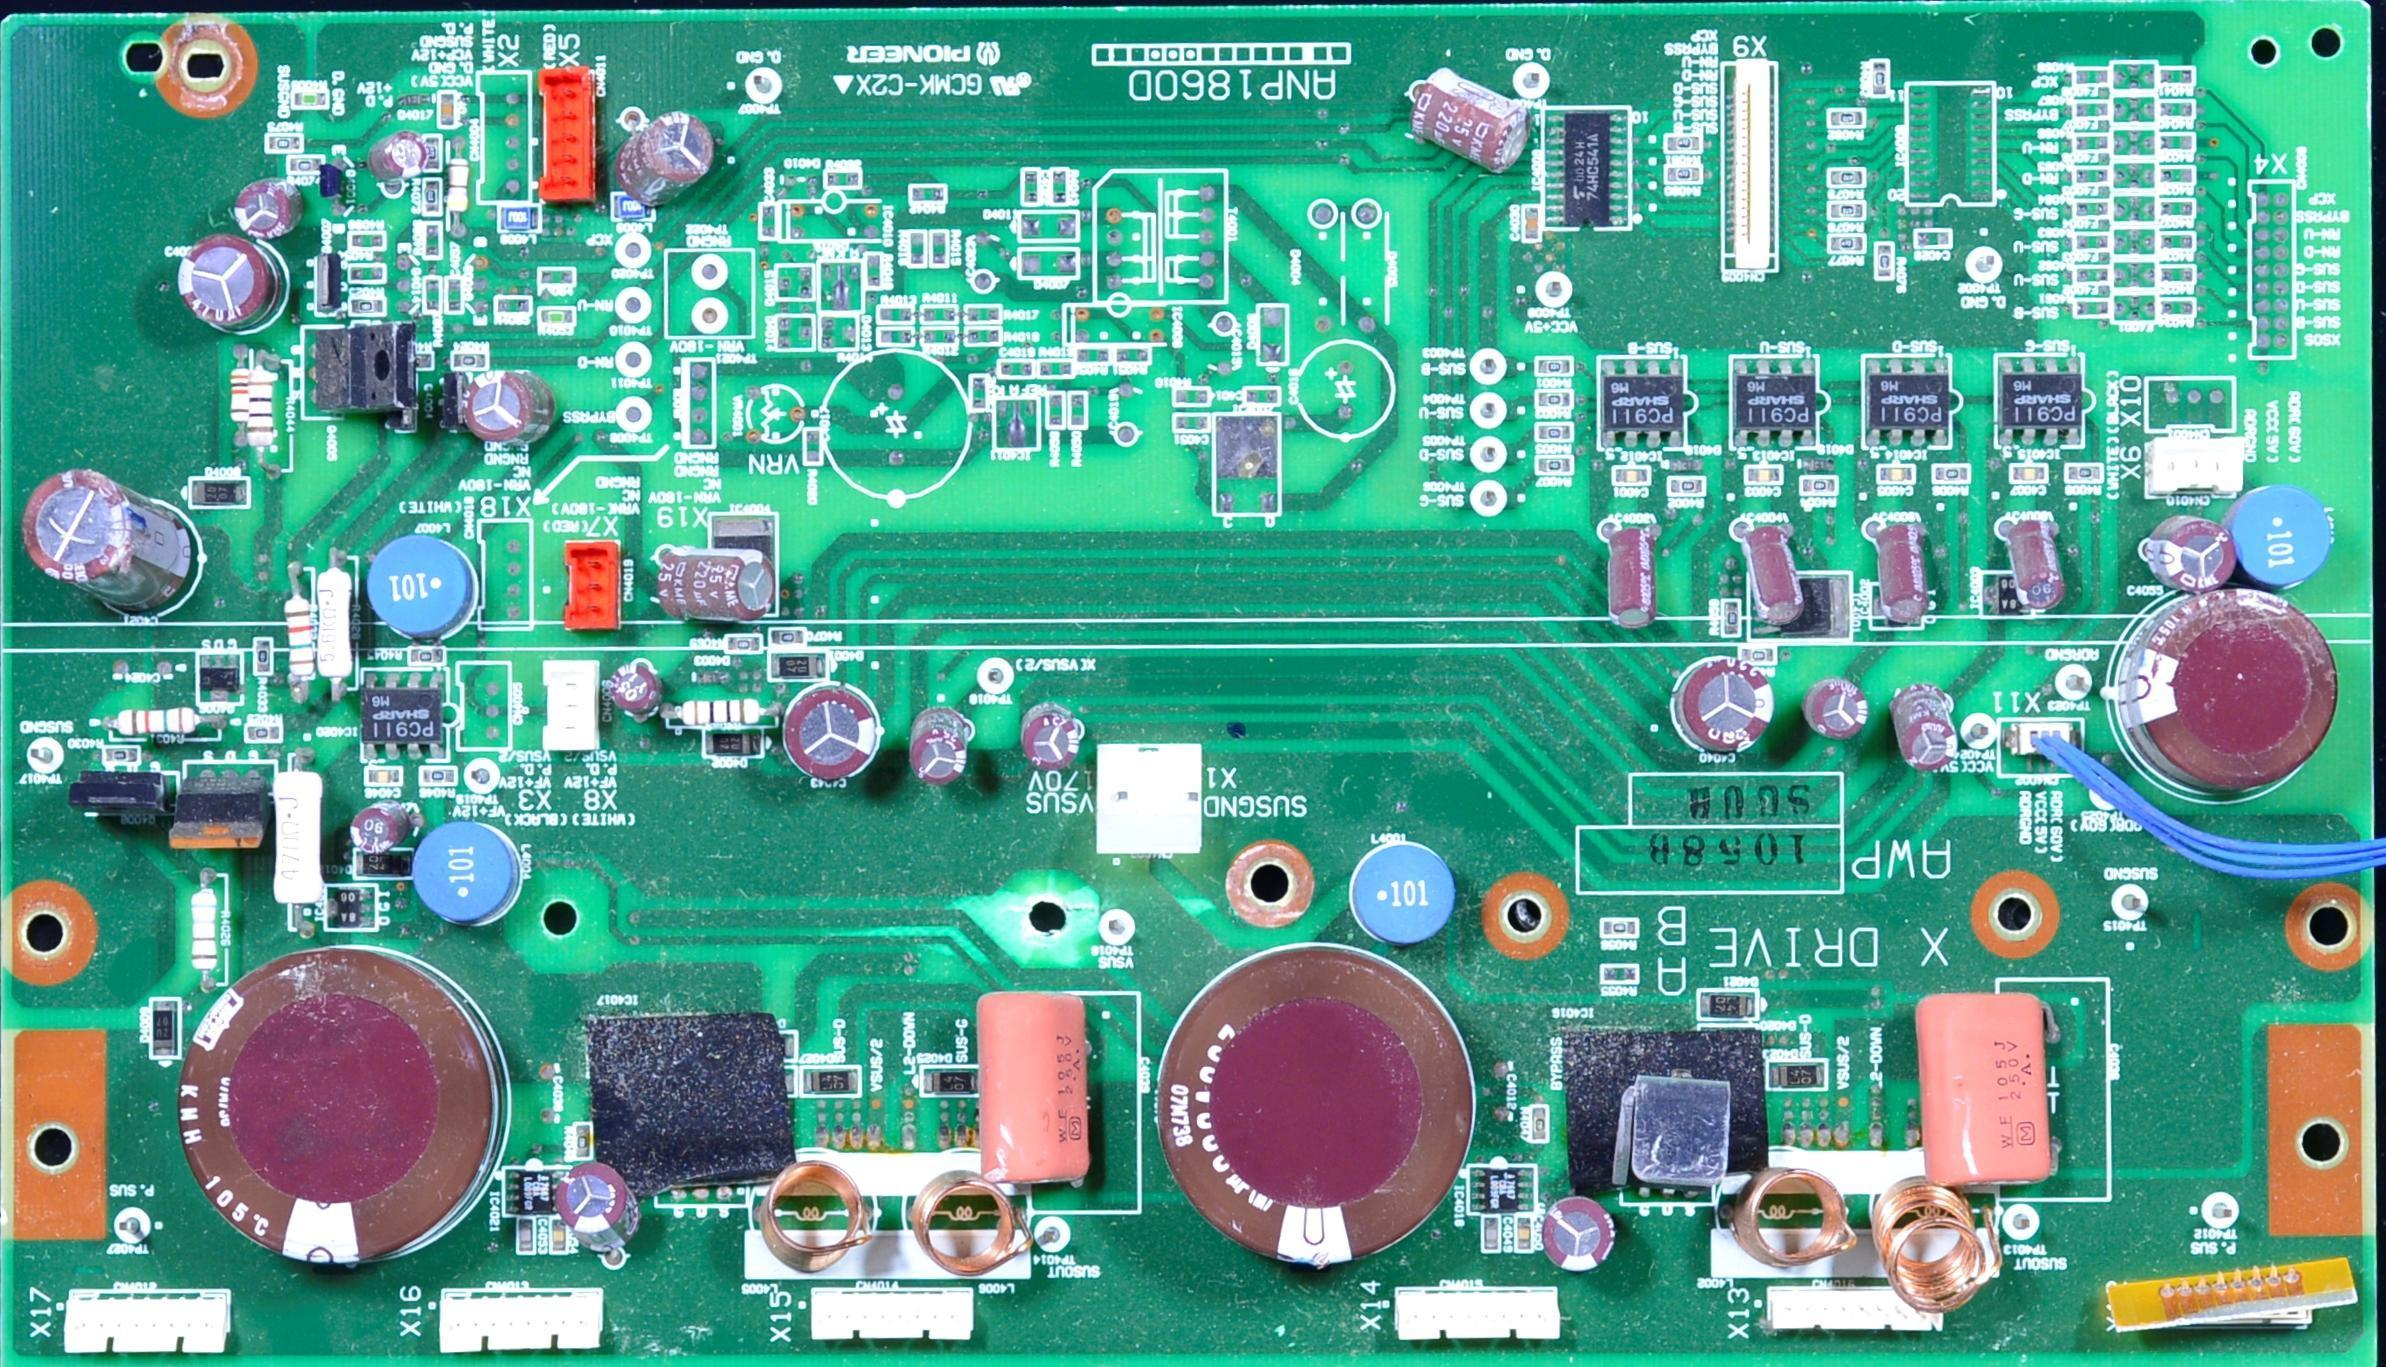Capacitor: (1162, 950, 1477, 1267), (187, 954, 484, 1260), (2134, 593, 2339, 793), (976, 995, 1103, 1172), (24, 473, 190, 602), (1409, 70, 1535, 200), (174, 240, 288, 333), (783, 683, 885, 782), (1684, 659, 1779, 756), (618, 120, 727, 203), (657, 544, 774, 620), (1300, 341, 1391, 436), (1889, 684, 1980, 771), (460, 365, 556, 448), (1866, 512, 1937, 620), (1606, 523, 1671, 634), (1746, 520, 1804, 627), (2149, 517, 2238, 587), (560, 1164, 639, 1239), (912, 705, 982, 786), (1544, 1198, 1620, 1271), (2006, 513, 2062, 609), (1020, 691, 1080, 769), (238, 176, 308, 238), (1803, 680, 1877, 738), (350, 797, 416, 855), (605, 659, 665, 718), (369, 131, 424, 183), (1492, 1059, 1509, 1119), (1516, 1216, 1535, 1251), (999, 361, 1035, 378), (1746, 466, 1782, 483), (366, 768, 401, 787), (517, 1219, 535, 1254), (759, 203, 777, 238), (1483, 1217, 1500, 1254), (1175, 415, 1212, 431), (551, 1217, 567, 1253), (1245, 388, 1281, 405), (1524, 206, 1541, 241), (446, 278, 462, 313), (1023, 171, 1039, 203), (496, 297, 530, 313), (541, 308, 574, 325), (1879, 467, 1914, 482), (2011, 467, 2045, 480), (1917, 232, 1949, 246), (1617, 470, 1649, 484)
Connector: (1720, 62, 1778, 273), (62, 1290, 232, 1354), (439, 1290, 604, 1353), (1396, 1288, 1563, 1343), (811, 1288, 976, 1339), (538, 68, 597, 201), (1769, 1288, 1943, 1331), (477, 72, 530, 204), (479, 521, 533, 628), (2149, 439, 2241, 496), (565, 540, 621, 628), (2001, 719, 2083, 778), (544, 660, 596, 749)
IC: (582, 1016, 791, 1197), (1561, 1028, 1772, 1196), (1906, 84, 1996, 206), (1544, 108, 1630, 231), (1731, 356, 1820, 451), (1996, 353, 2083, 450), (1863, 354, 1953, 447), (362, 672, 444, 760), (1601, 359, 1685, 444), (1468, 1164, 1535, 1213), (504, 1169, 560, 1213), (327, 884, 376, 929), (994, 400, 1038, 448), (714, 516, 776, 546), (1982, 573, 2026, 614)
Resistor: (273, 753, 324, 907), (232, 349, 284, 474), (316, 563, 351, 681), (191, 870, 226, 983), (283, 564, 316, 682), (105, 708, 224, 737), (663, 699, 772, 726), (445, 136, 471, 231), (1664, 133, 1703, 153), (825, 168, 861, 189), (348, 263, 384, 283), (420, 766, 456, 786), (1038, 359, 1074, 379), (803, 429, 822, 465), (254, 638, 272, 676), (102, 747, 140, 766), (438, 91, 456, 128), (349, 297, 385, 315), (922, 307, 958, 324), (726, 635, 762, 652), (423, 177, 440, 216), (267, 133, 302, 151), (425, 279, 442, 313), (1069, 393, 1086, 427), (409, 648, 444, 665), (425, 222, 441, 259), (771, 630, 808, 645), (423, 135, 440, 171), (288, 157, 324, 174), (1666, 167, 1702, 184), (910, 230, 926, 266), (865, 254, 882, 290), (878, 305, 914, 322), (965, 327, 1002, 345), (1602, 966, 1638, 982), (1602, 920, 1637, 936), (350, 233, 383, 249), (1877, 245, 1893, 277), (923, 328, 956, 345), (1723, 601, 1739, 634), (1532, 1105, 1547, 1140), (965, 306, 1001, 322), (2068, 466, 2100, 482), (2075, 102, 2109, 117), (2159, 170, 2192, 186), (2159, 234, 2193, 249), (2162, 300, 2196, 314), (1075, 348, 1109, 363), (1934, 466, 1968, 481), (246, 726, 281, 741), (2159, 68, 2192, 82), (1831, 171, 1863, 185), (1831, 205, 1863, 220), (1830, 236, 1864, 251), (1116, 348, 1149, 363), (1176, 388, 1210, 404), (1537, 393, 1570, 408), (1048, 393, 1063, 426), (2162, 135, 2193, 149), (1539, 359, 1570, 374), (1053, 169, 1066, 203), (912, 187, 945, 200), (932, 233, 945, 265), (1802, 478, 1836, 492), (1831, 111, 1861, 124), (2077, 168, 2108, 181), (2162, 202, 2193, 215), (2077, 235, 2107, 248), (2078, 70, 2109, 83), (1873, 62, 1886, 94), (2159, 268, 2193, 281), (2160, 103, 2191, 115), (2076, 136, 2107, 148), (2078, 303, 2109, 314), (1539, 426, 1570, 438), (1539, 459, 1570, 470), (1671, 481, 1702, 492), (2077, 203, 2106, 215), (2078, 270, 2107, 282)
Transistor: (1906, 982, 2073, 1188), (310, 326, 415, 418), (198, 652, 243, 703)
